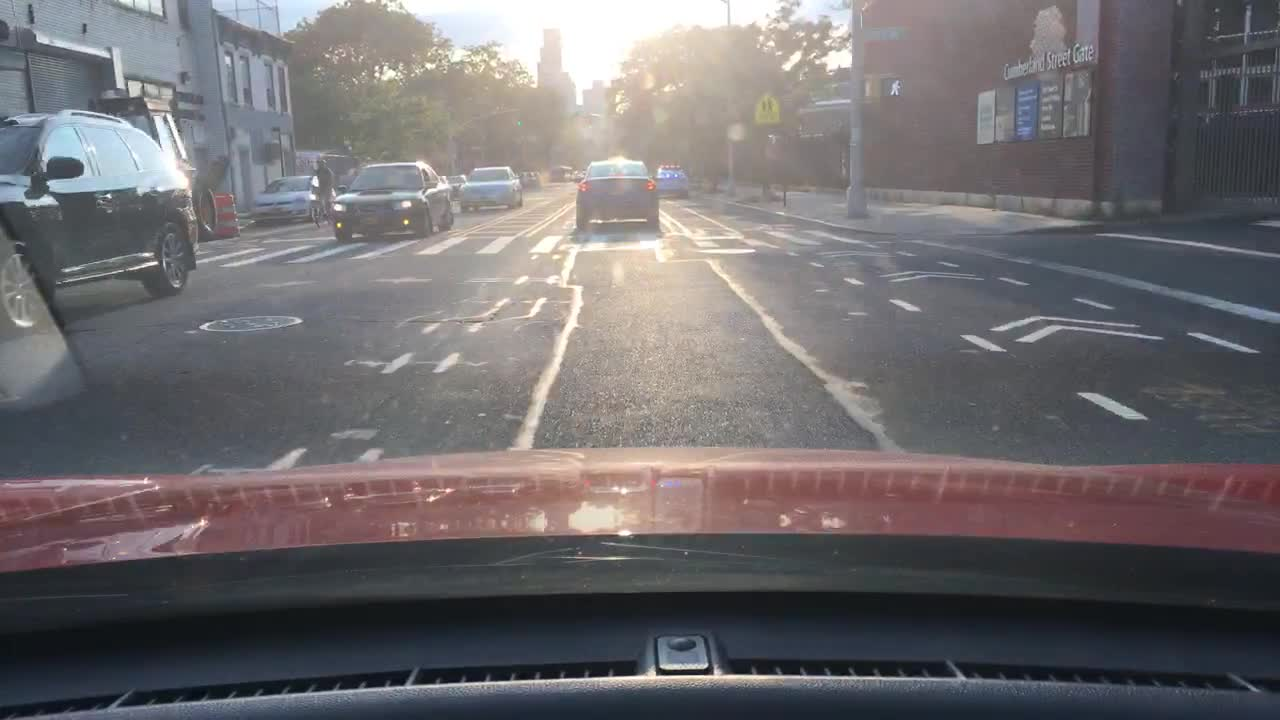bike: (307, 183, 331, 225)
car: (0, 107, 200, 332), (336, 159, 455, 243), (573, 157, 661, 233), (248, 172, 329, 227), (459, 165, 522, 214), (654, 163, 691, 199), (444, 172, 470, 198), (519, 170, 545, 189), (550, 165, 575, 183), (572, 168, 586, 181)
rider: (311, 174, 329, 207)
traffic light: (863, 73, 911, 105), (514, 117, 523, 129)
traffic sign: (753, 94, 784, 128), (855, 26, 910, 44), (728, 123, 747, 144)
